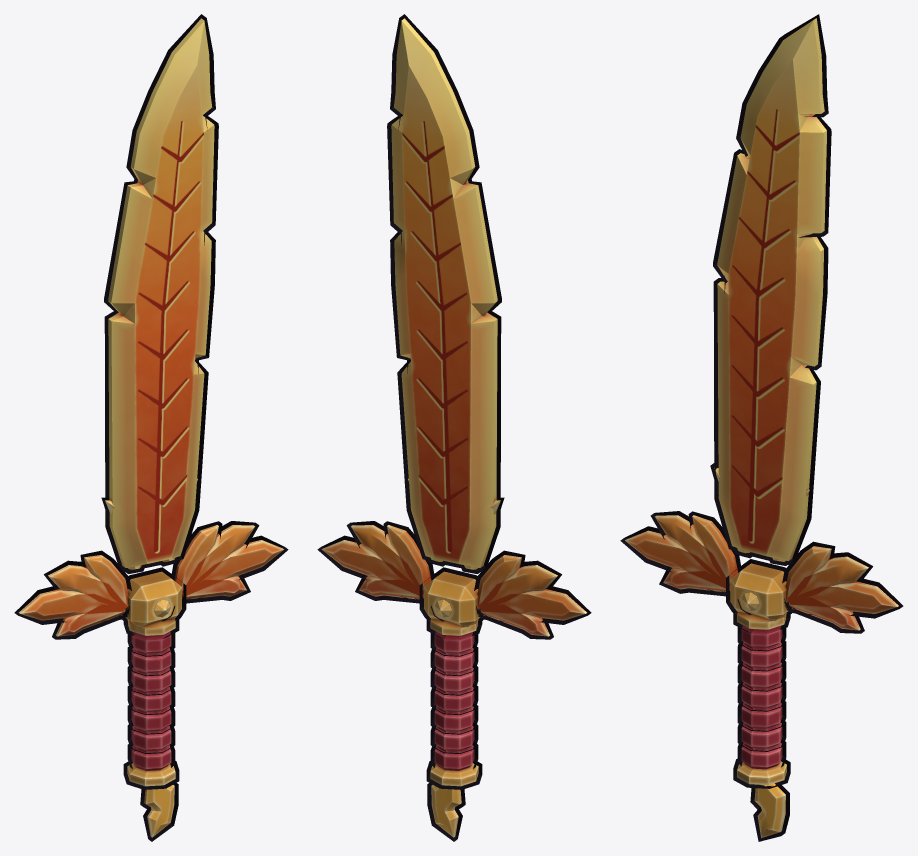
The model's file is PhoenixFeather.fbx.
3 renders of one model, left to right at view 1: azimuth 30°, elevation 25°; view 2: azimuth 150°, elevation 25°; view 3: azimuth 330°, elevation 25°, orthographic. The views are drawn at different scales.
Parts seen in each view (by area): view 1: PhoenixFeather, PhoenixFeatherOutline, PhoenixFeatherPhoenixGlow; view 2: PhoenixFeather, PhoenixFeatherOutline, PhoenixFeatherPhoenixGlow; view 3: PhoenixFeather, PhoenixFeatherOutline, PhoenixFeatherPhoenixGlow.
Boxes of the visible parts, x1,y1,x2,y2 form: PhoenixFeather: (19,18,283,786); PhoenixFeatherOutline: (14,14,288,841); PhoenixFeatherPhoenixGlow: (105,479,197,837); PhoenixFeather: (322,18,586,786); PhoenixFeatherOutline: (317,14,591,841); PhoenixFeatherPhoenixGlow: (408,479,500,837); PhoenixFeather: (625,18,898,785); PhoenixFeatherOutline: (620,14,903,841); PhoenixFeatherPhoenixGlow: (714,468,809,838).
Bounding box in the file's own units: 158 × 452 × 32.4.
2 materials, 1 textured.
